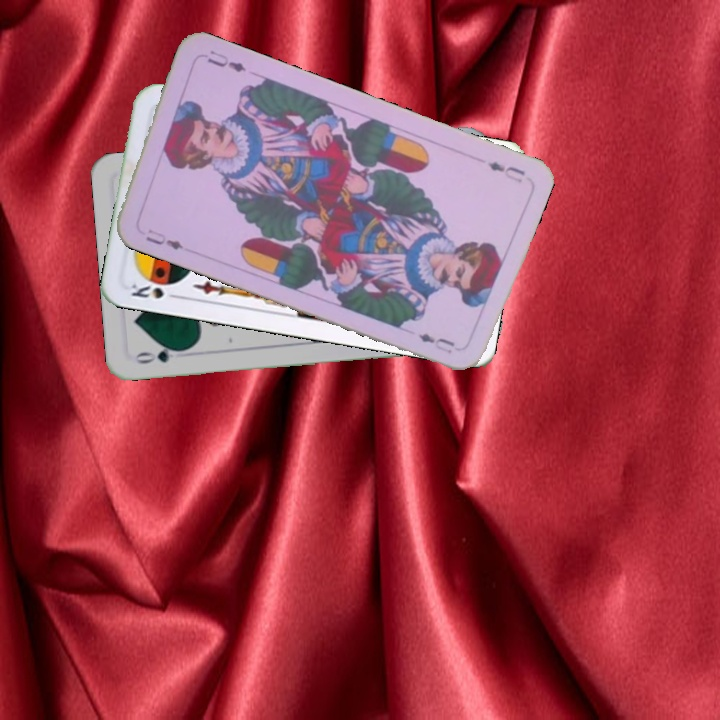EU: (484, 157, 528, 186), (142, 225, 186, 253)
GO: (130, 342, 189, 366)
SK: (125, 278, 184, 302)
